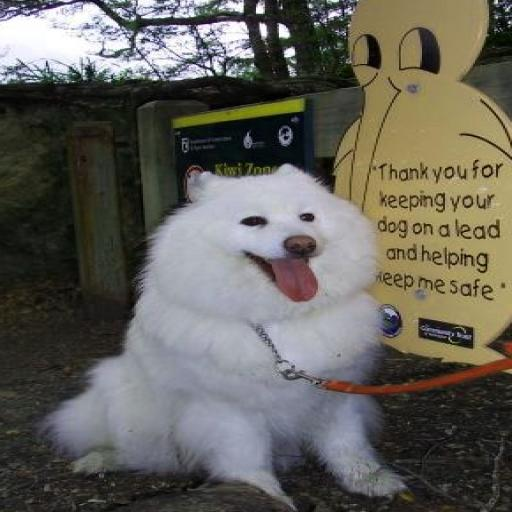dog_face: (169, 171, 366, 311)
